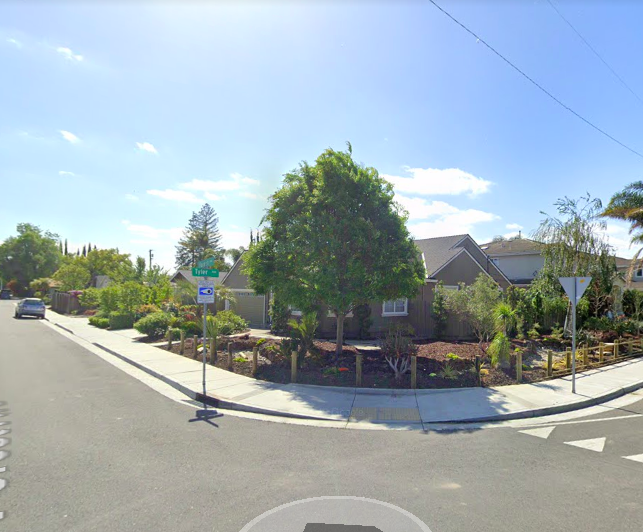tree: (239, 139, 428, 357)
